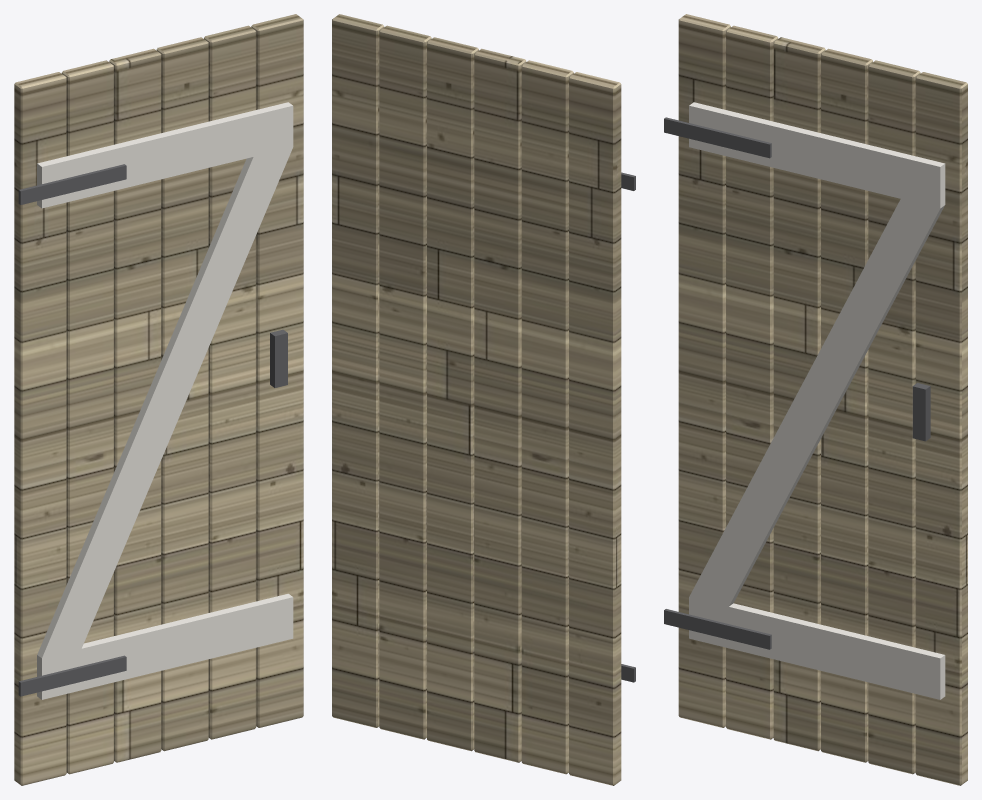
File: door_leaf_shed.glb
3 views of the same model, side by side, from view 1: azimuth 30°, elevation 25°; view 2: azimuth 150°, elevation 25°; view 3: azimuth 330°, elevation 25° (orthographic).
Parts seen in each view (by area): view 1: door_leaf_shed_siding, door_leaf_shed_trim, door_leaf_shed_iron; view 2: door_leaf_shed_siding; view 3: door_leaf_shed_siding, door_leaf_shed_trim, door_leaf_shed_iron.
Part boxes in pixels (x1=…): door_leaf_shed_siding: x1=14, y1=14, x2=303, y2=785; door_leaf_shed_trim: x1=37, y1=102, x2=293, y2=699; door_leaf_shed_iron: x1=18, y1=164, x2=287, y2=696; door_leaf_shed_siding: x1=332, y1=14, x2=621, y2=785; door_leaf_shed_siding: x1=678, y1=14, x2=967, y2=785; door_leaf_shed_trim: x1=689, y1=102, x2=945, y2=699; door_leaf_shed_iron: x1=664, y1=117, x2=930, y2=649.
Bounding box in the file's own units: 0.878 × 2.02 × 0.09.
3 materials, 1 textured.
